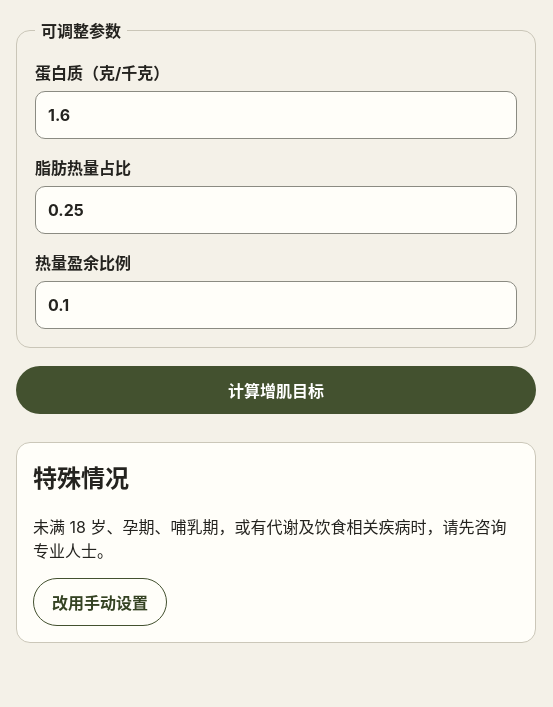
it: OnboardingPage › reveals manual setup guidance from an operable entry
(page scrolled)
Click the button "改用手动设置" at (100, 602), box [33,578,167,626]
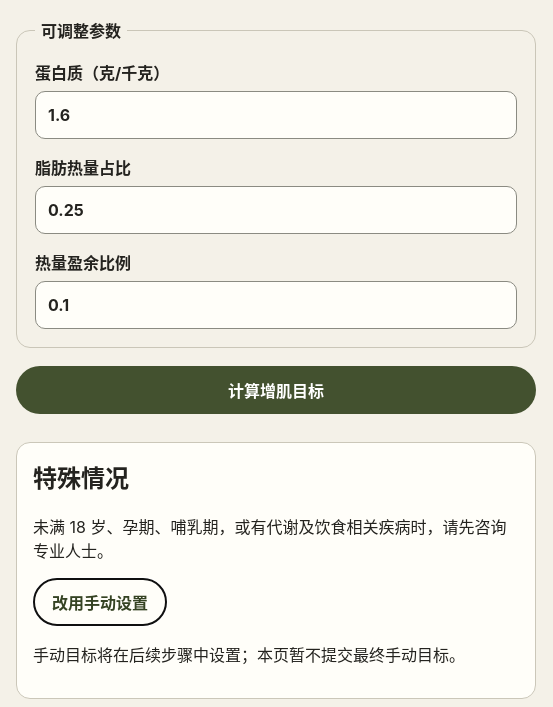
Check: the text "手动目标将在后续步骤中设置；本页暂不提交最终手动目标。" is shown, box [33,642,519,666]
